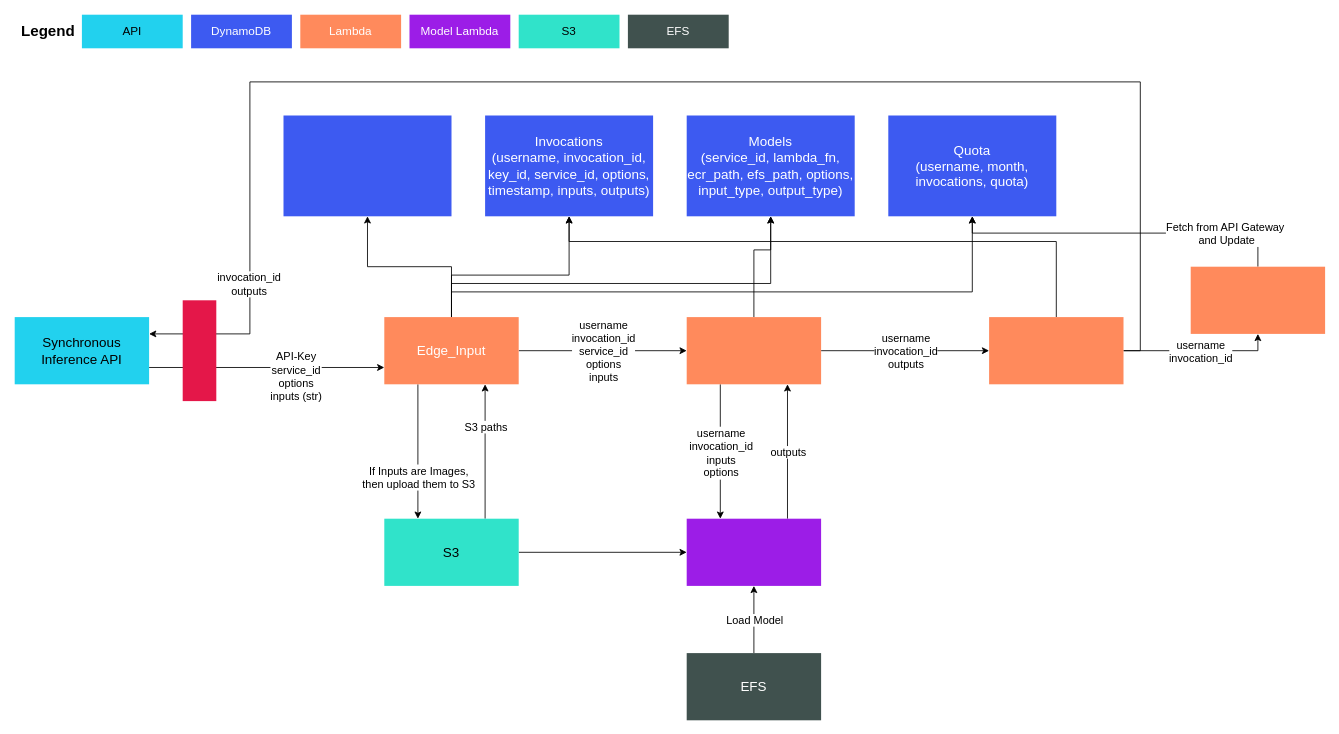
Some shapes in this 1339 by 734 pixel diagram are drawn without their labels. Each missing label, with the centre of its shape:
"API Gateway" goes at (x=199, y=350).
"API Keys (username, key_id, api_key, acl, enabled )" goes at (x=367, y=165).
"Edge_Output" goes at (x=1056, y=350).
"Edge_Predict" goes at (x=753, y=350).
"Edge_Quota" goes at (x=1257, y=299).
"Model" goes at (x=753, y=551).
